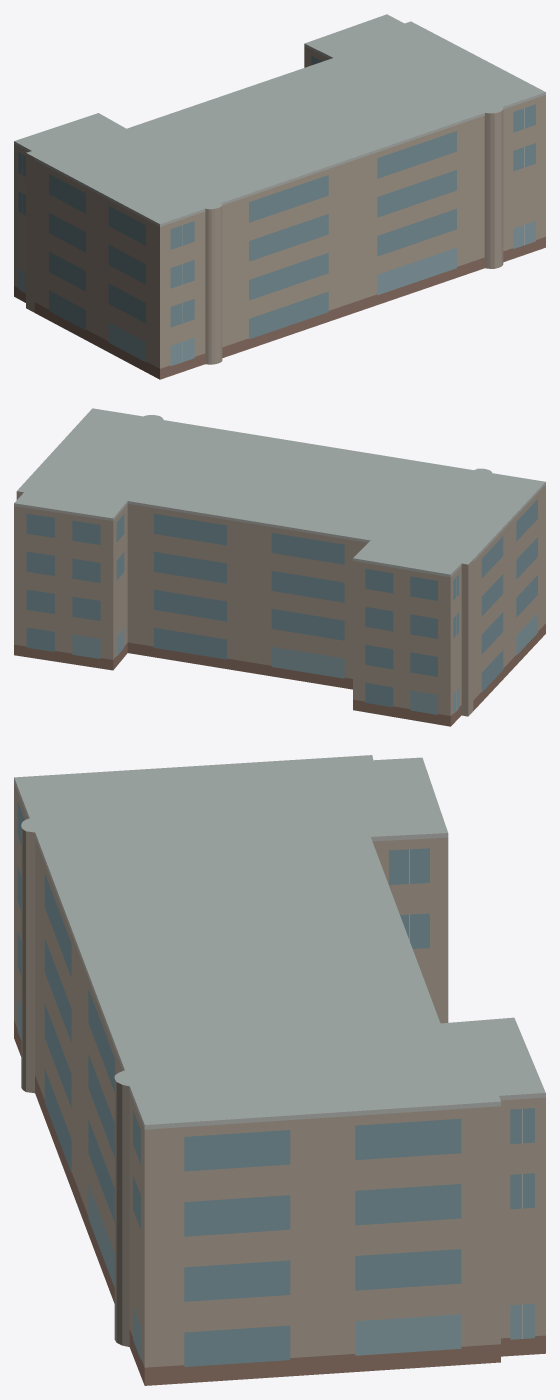
File: survey-upis-32864594.glb
3 views of the same model, one above another, from view 1: azimuth 30°, elevation 25°; view 2: azimuth 150°, elevation 25°; view 3: azimuth 270°, elevation 25° (orthographic). The views are drawn at different scales.
Visible parts, largest first — view 1: survey-upis-32864594.tmp; view 2: survey-upis-32864594.tmp; view 3: survey-upis-32864594.tmp.
Boxes of the visible parts, box(x1,y1,x2,y2) form: survey-upis-32864594.tmp: box(14, 14, 545, 379); survey-upis-32864594.tmp: box(14, 408, 545, 726); survey-upis-32864594.tmp: box(14, 755, 545, 1385).
Bounding box in the file's own units: 42.31 × 13.9 × 25.7.
